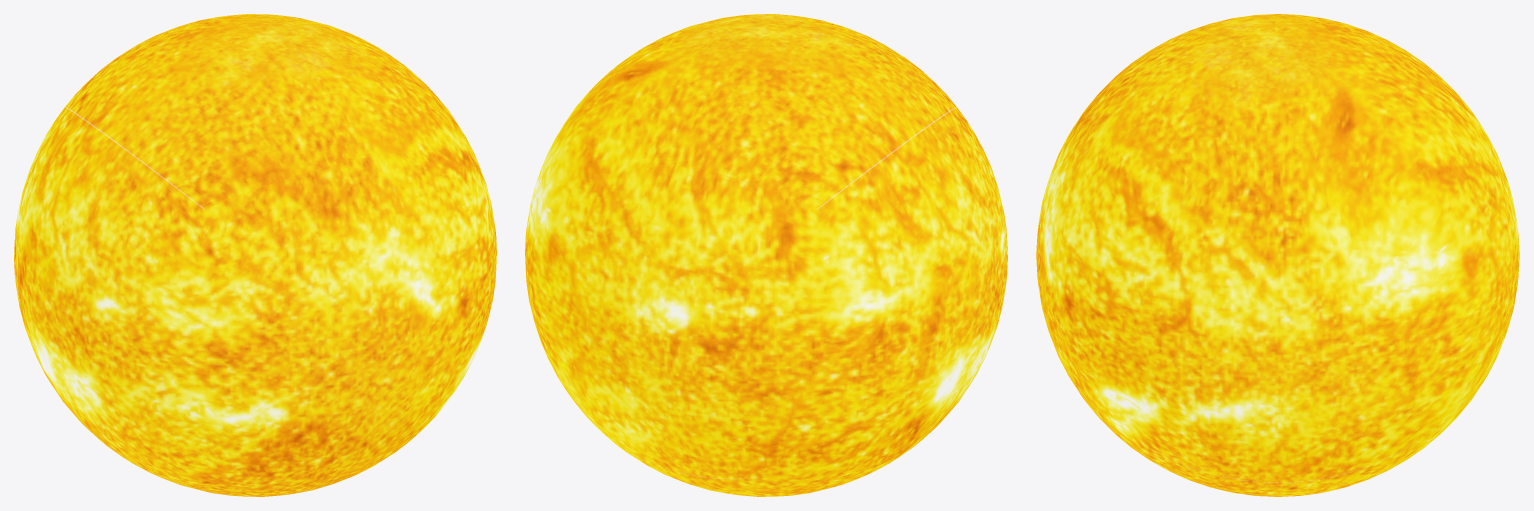
The model's file is Sol.fbx.
3 renders of one model, left to right at view 1: azimuth 30°, elevation 25°; view 2: azimuth 150°, elevation 25°; view 3: azimuth 270°, elevation 25°, orthographic.
Parts seen in each view (by area): view 1: Cube.001; view 2: Cube.001; view 3: Cube.001.
Boxes of the visible parts, left/top/right/bottom form: Cube.001: left=14, top=14, right=496, bottom=496; Cube.001: left=525, top=14, right=1007, bottom=496; Cube.001: left=1036, top=14, right=1519, bottom=496.
Bounding box in the file's own units: 100000 × 100000 × 100000.
